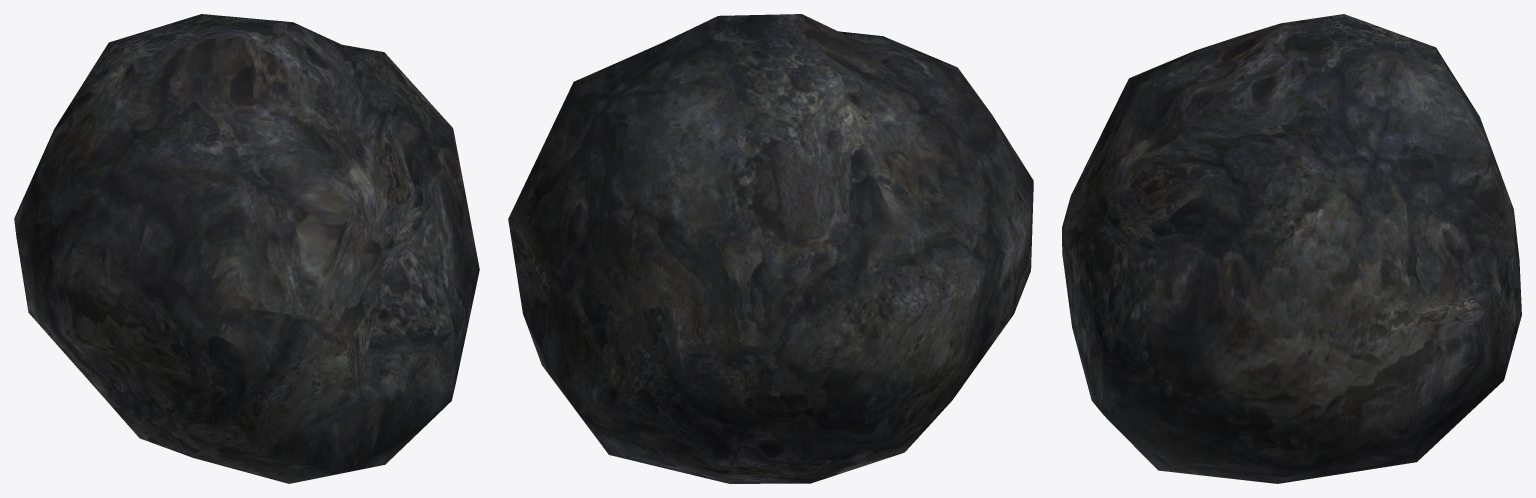
Rendered from stg600_obj_meteoriteB01.obj.
3 renders of one model, left to right at view 1: azimuth 30°, elevation 25°; view 2: azimuth 150°, elevation 25°; view 3: azimuth 270°, elevation 25°, orthographic. The views are drawn at different scales.
Parts seen in each view (by area): view 1: polygon0; view 2: polygon0; view 3: polygon0.
Boxes of the visible parts, x1,y1,x2,y2 form: polygon0: (14, 14, 479, 483); polygon0: (508, 14, 1033, 483); polygon0: (1062, 14, 1521, 483).
Bounding box in the file's own units: 48.06 × 46.76 × 45.93.
Materials: 1 (1 with a texture image).
